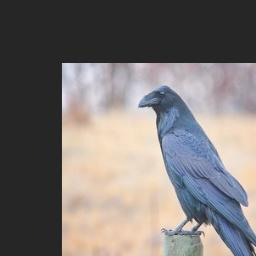Crow: (136, 82, 256, 256)
